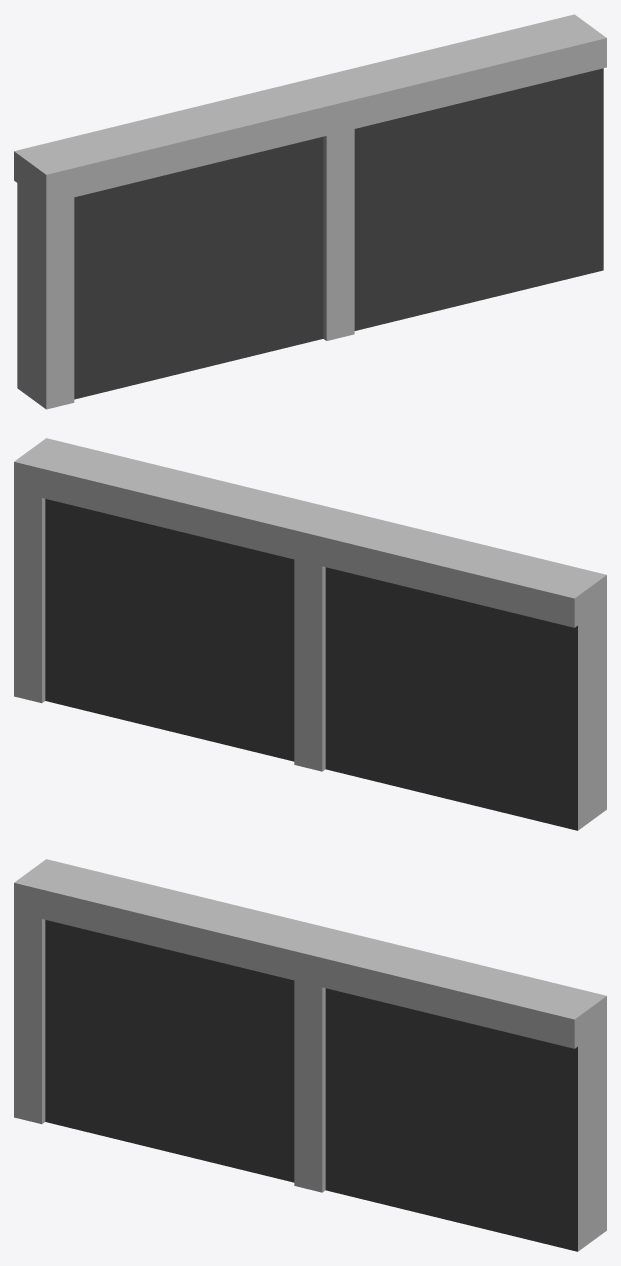
Rendered from LightStoneWallMediumFramedMotif1.fbx.
3 renders of one model, top to bottom at view 1: azimuth 30°, elevation 25°; view 2: azimuth 150°, elevation 25°; view 3: azimuth 330°, elevation 25°, orthographic.
Visible parts, largest first — view 1: LightStoneWallMediumFramedMotif1; view 2: LightStoneWallMediumFramedMotif1; view 3: LightStoneWallMediumFramedMotif1.
Part boxes in pixels (x1,y1,x2,y2): LightStoneWallMediumFramedMotif1: (14, 14, 606, 409); LightStoneWallMediumFramedMotif1: (14, 438, 606, 830); LightStoneWallMediumFramedMotif1: (14, 859, 606, 1251).
Size of the model in its own units: 1000 by 400 by 100.
2 materials, 2 textured.
